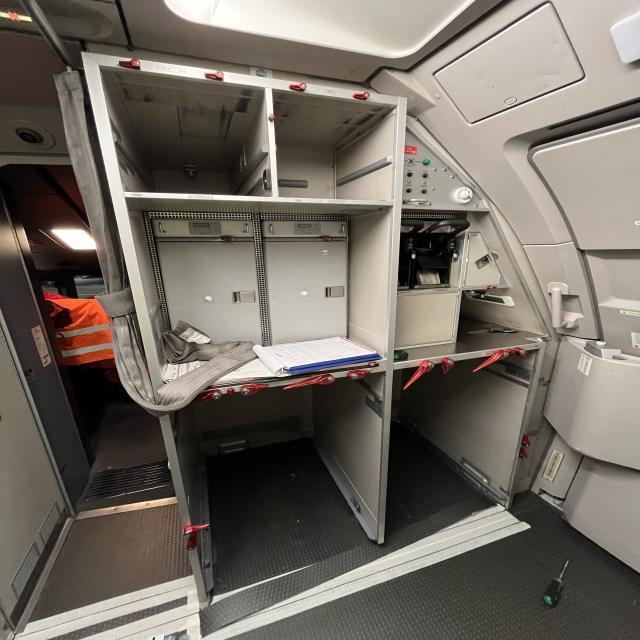dent: (534, 68, 570, 80), (532, 82, 560, 92), (546, 36, 566, 48), (472, 74, 486, 82), (603, 366, 615, 374)
